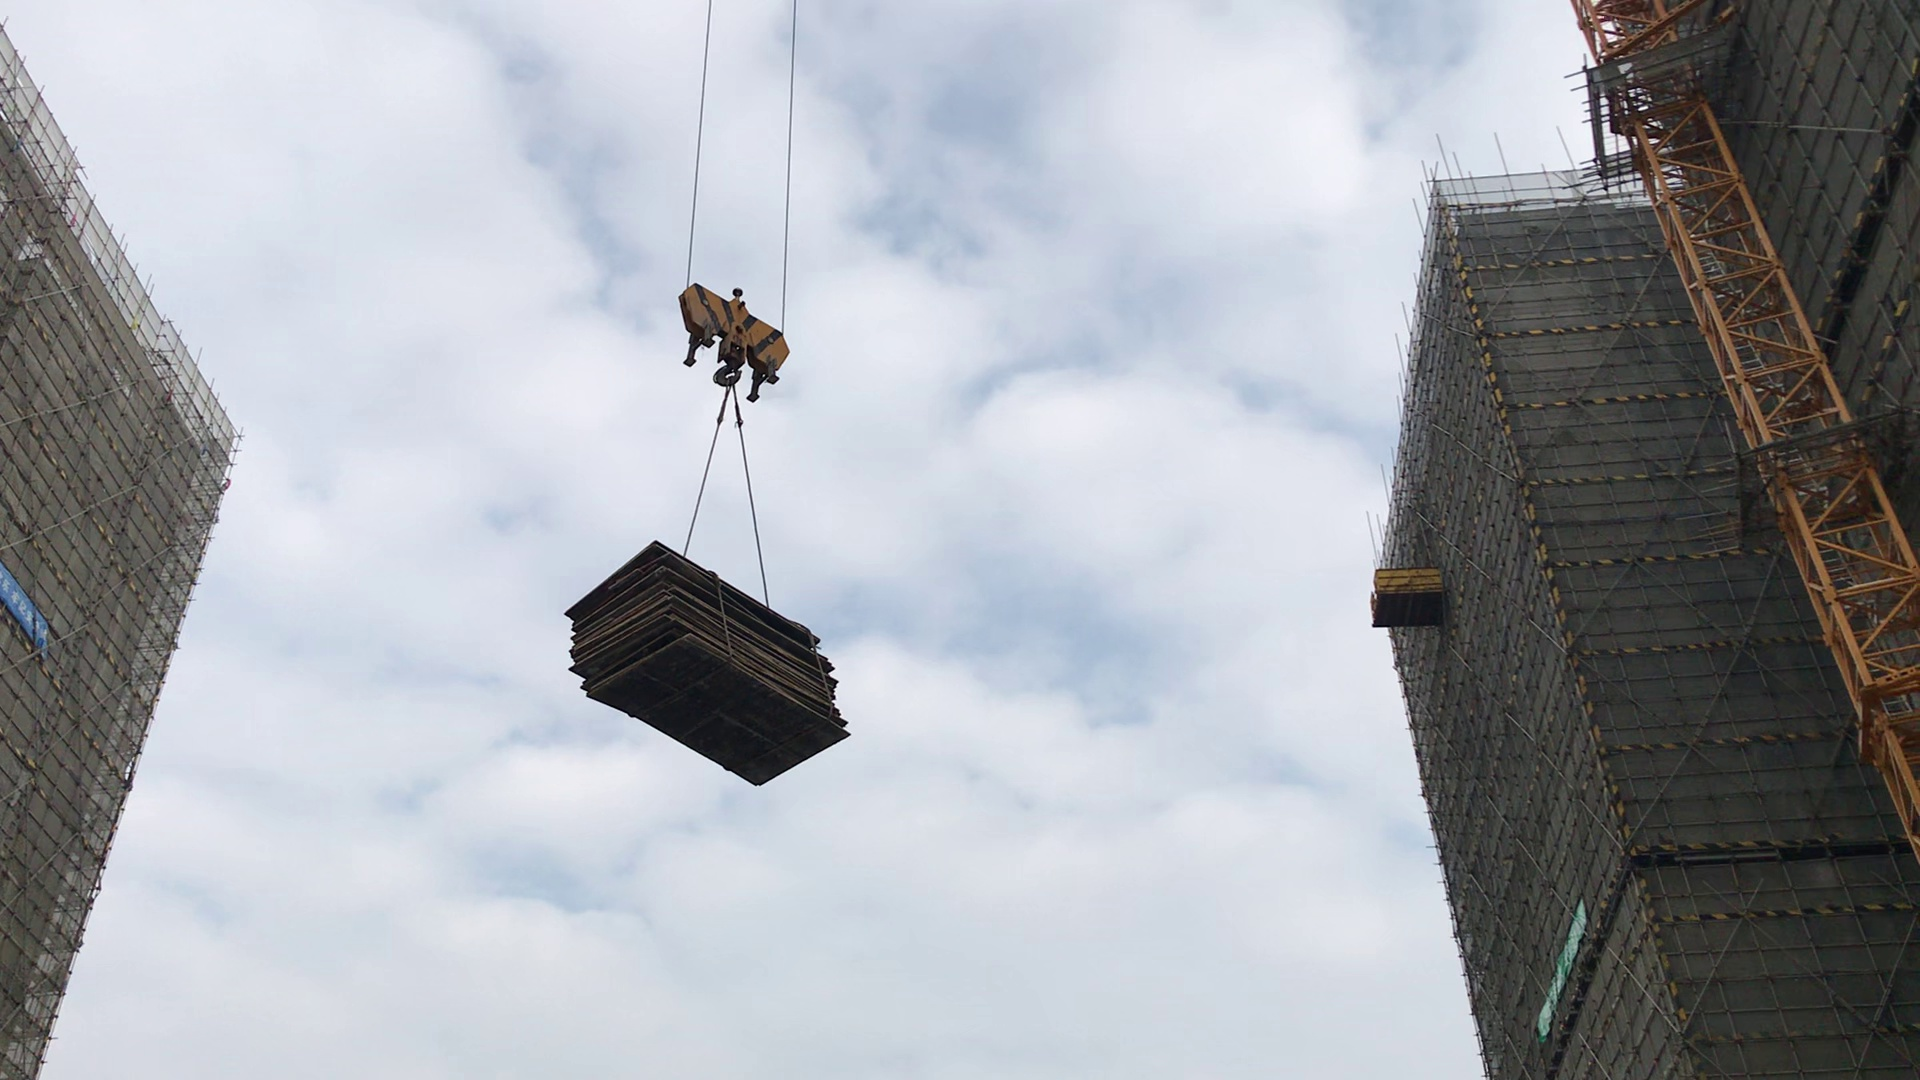board: (556, 534, 862, 790)
hook: (676, 273, 796, 413)
slogan: (1528, 898, 1594, 1040), (1, 564, 80, 665)
